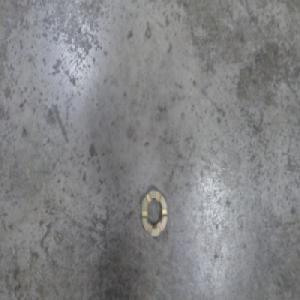Nut: (140, 184, 168, 237)
